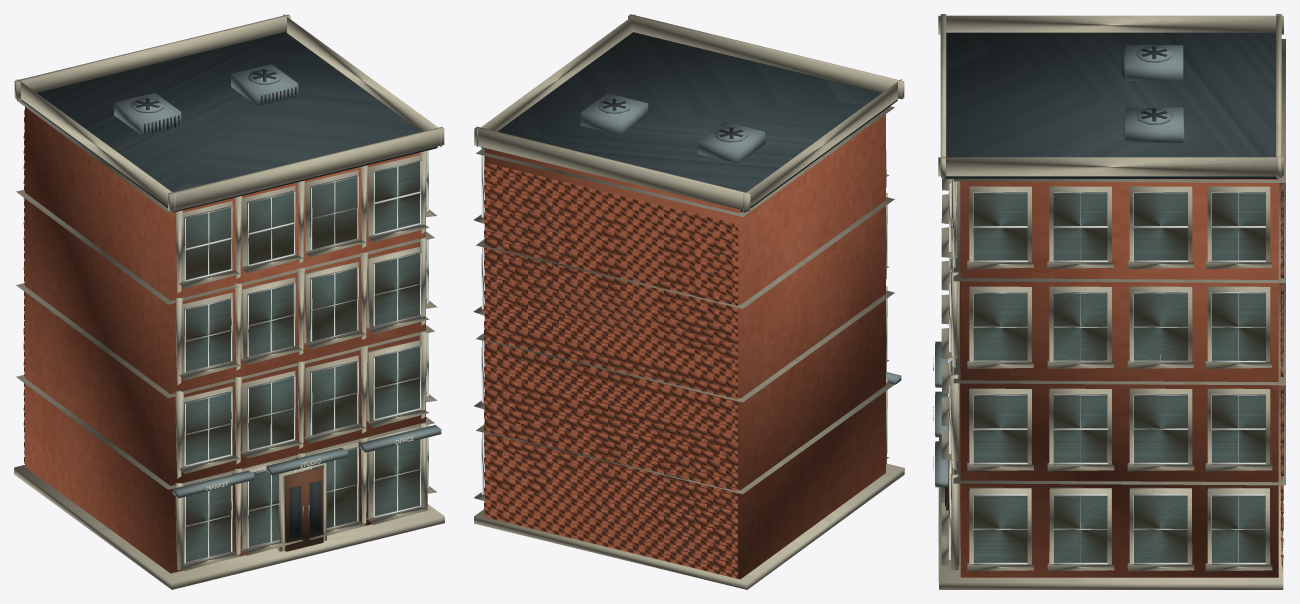
3 renders of one model, left to right at view 1: azimuth 30°, elevation 25°; view 2: azimuth 150°, elevation 25°; view 3: azimuth 270°, elevation 25°, orthographic. The views are drawn at different scales.
Parts seen in each view (by area): view 1: commercial__static_warm_brick, commercial__static_limestone, commercial__static_warm_glazing, commercial__static_slate, commercial__static_civic_pale_painted_trim, commercial__static_patinated_metal, commercial__door_01__recessed_entrance_leaf, commercial__door_01, commercial__door_01__door_inset_panel; view 2: commercial__static_warm_brick, commercial__static_slate, commercial__static_limestone, commercial__static_patinated_metal, commercial__static_civic_pale_painted_trim; view 3: commercial__static_warm_glazing, commercial__static_limestone, commercial__static_warm_brick, commercial__static_slate, commercial__static_civic_pale_painted_trim, commercial__static_patinated_metal.
Boxes of the visible parts, x1,y1,x2,y2 form: commercial__static_warm_brick: [23, 107, 425, 573]; commercial__static_limestone: [14, 14, 444, 589]; commercial__static_warm_glazing: [184, 160, 426, 562]; commercial__static_slate: [21, 32, 437, 212]; commercial__static_civic_pale_painted_trim: [184, 150, 428, 563]; commercial__static_patinated_metal: [114, 64, 441, 498]; commercial__door_01__recessed_entrance_leaf: [284, 467, 323, 551]; commercial__door_01: [308, 480, 321, 535]; commercial__door_01__door_inset_panel: [289, 485, 301, 540]; commercial__static_warm_brick: [484, 114, 885, 579]; commercial__static_slate: [481, 32, 897, 212]; commercial__static_limestone: [473, 14, 904, 589]; commercial__static_patinated_metal: [580, 93, 901, 384]; commercial__static_civic_pale_painted_trim: [481, 155, 484, 494]; commercial__static_warm_glazing: [951, 179, 1265, 562]; commercial__static_limestone: [938, 14, 1285, 589]; commercial__static_warm_brick: [959, 178, 1283, 577]; commercial__static_slate: [944, 32, 1277, 178]; commercial__static_civic_pale_painted_trim: [948, 179, 1265, 564]; commercial__static_patinated_metal: [935, 45, 1184, 487].
Size of the model in its own units: 8.13 by 11 by 8.15.
Materials: 9 (4 with a texture image).
